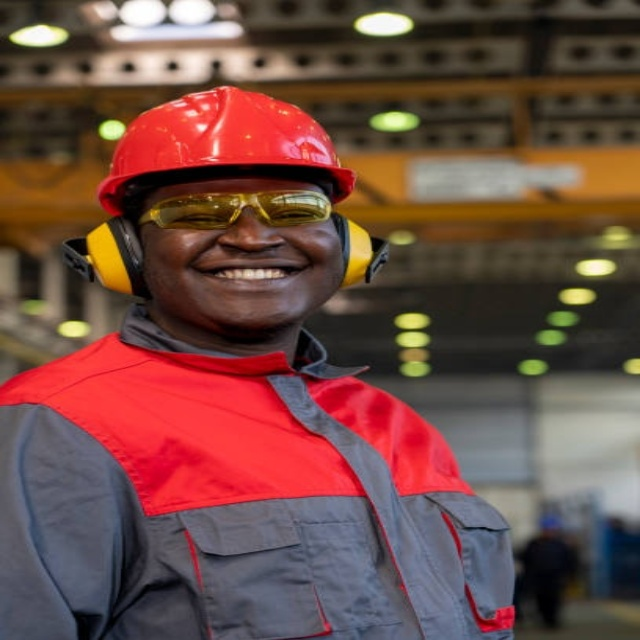Gafas: (132, 188, 342, 234)
Sin_mascara: (182, 247, 304, 307)
